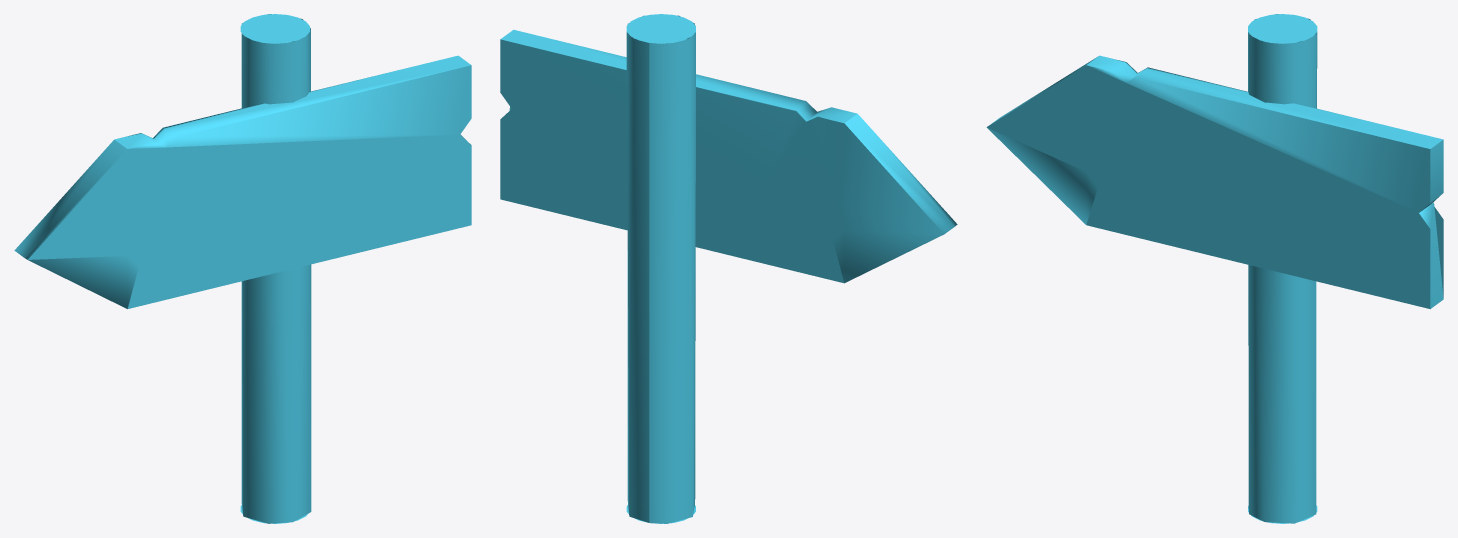
Rendered from table.FBX.
The picture shows the model from 3 angles, left to right: view 1: azimuth 30°, elevation 25°; view 2: azimuth 150°, elevation 25°; view 3: azimuth 330°, elevation 25°; orthographic projection.
Visible parts, largest first — view 1: table; view 2: table; view 3: table.
Part boxes in pixels (<box>): table: <box>14,14,471,523</box>; table: <box>500,14,957,523</box>; table: <box>986,14,1443,523</box>.
Size of what is drawn, in the model's own units: 138 by 22.47 by 143.
